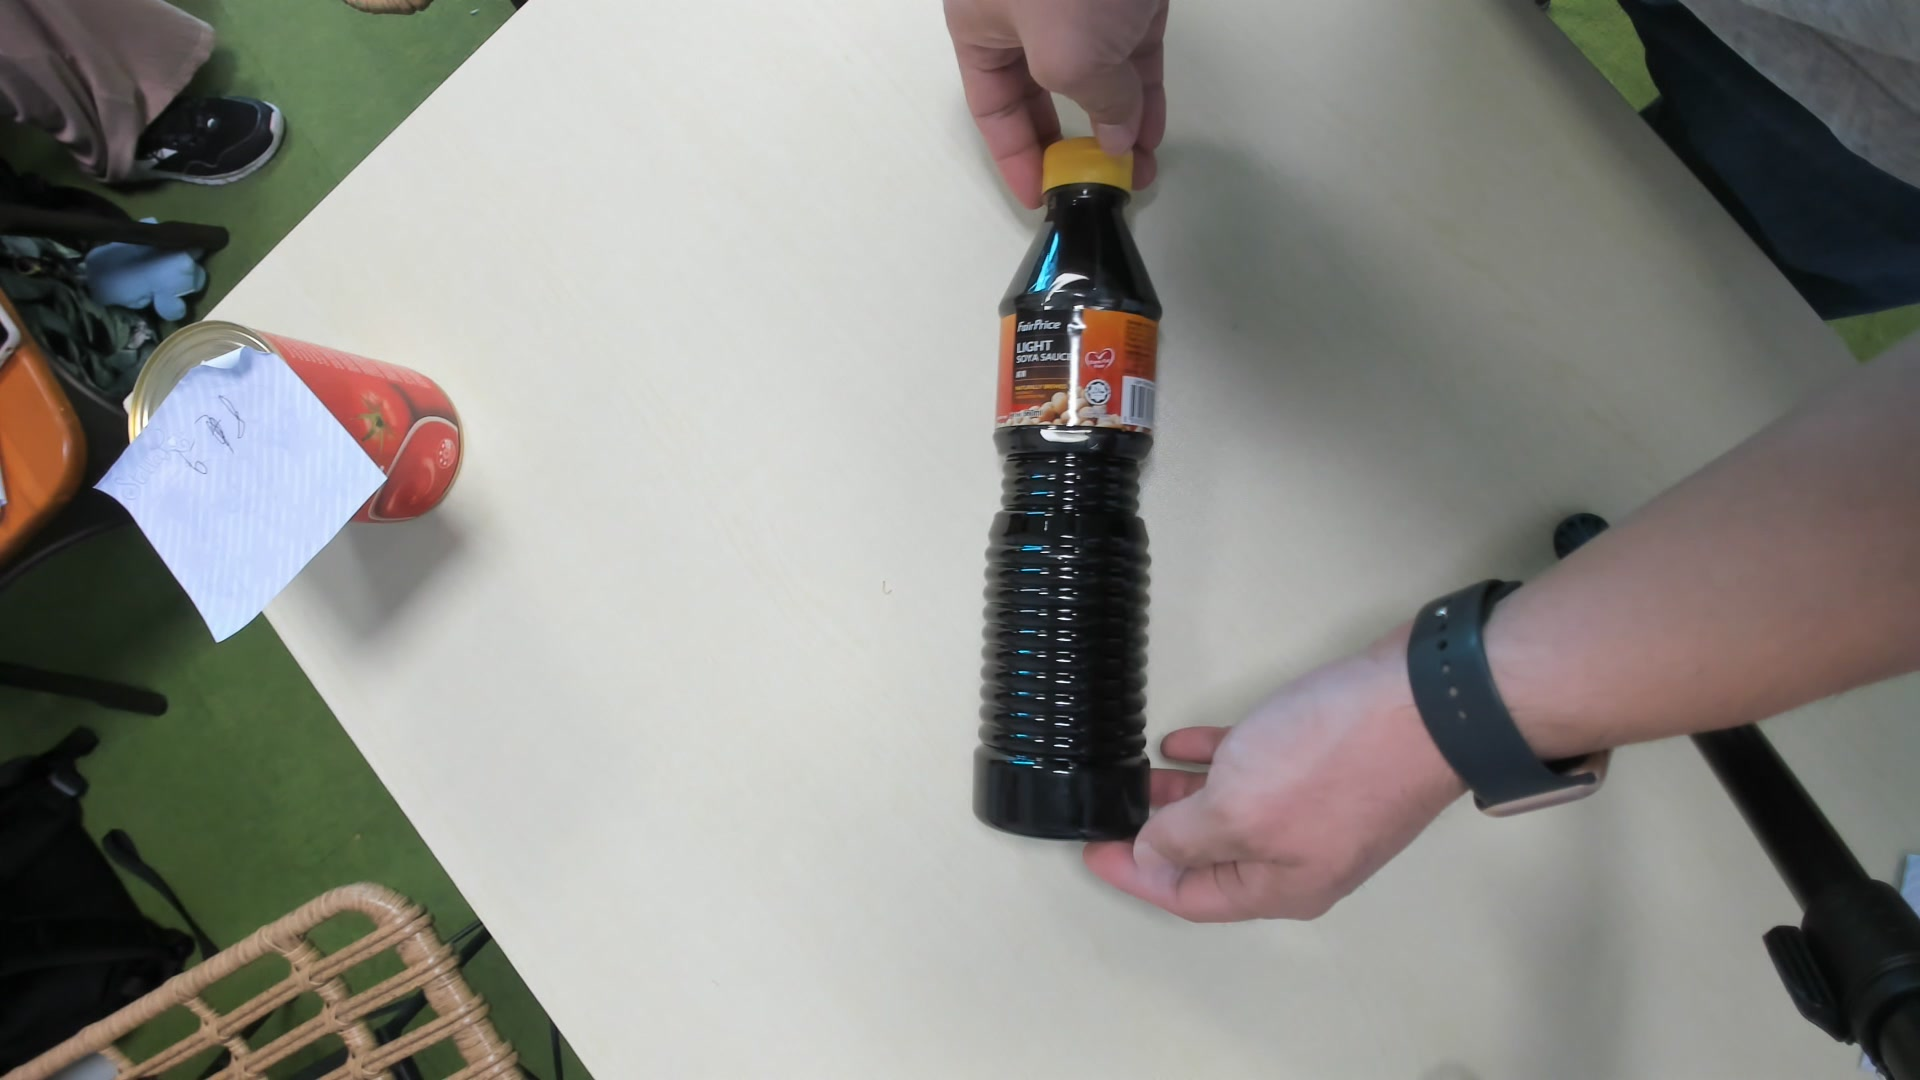OtherSauceDressingSoupbasePaste_600-699g_Halal_NonHealthy: (975, 127, 1163, 847)
